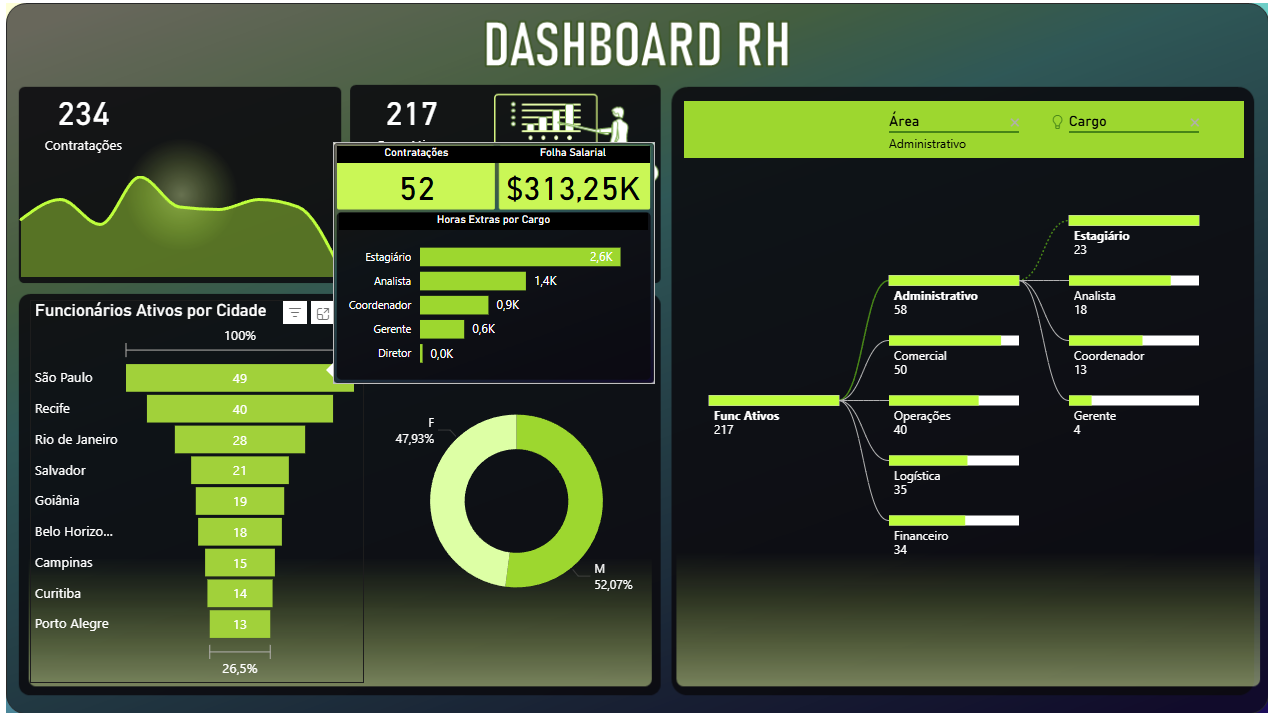

What the dashboard file says about the page in this screenshot:
{"tool":"powerbi","page":{"name":"Page 1","canvas":[1280,720],"ordinal":0},"visuals":[{"type":"card","fields":{"Values":["BaseFuncionarios.Total Contratações"]},"box":[29.3,63.8,114.7,113.9],"z":1000},{"type":"lineChart","fields":{"Y":["BaseFuncionarios.Total Contratações"],"Category":["BaseFuncionarios.Data de Contratacao.Variation.Date Hierarchy.Year"]},"box":[3.6,164.8,346.4,121.2],"z":2000},{"type":"card","fields":{"Values":["BaseFuncionarios.Func Ativos"]},"box":[358,63.8,113,113.9],"z":3000},{"type":"card","fields":{"Values":["BaseFuncionarios.Desligamentos"]},"box":[481.2,177.6,114.8,114],"z":4000},{"type":"card","fields":{"Values":["BaseFuncionarios.Turnover"]},"box":[356.2,177.7,114.7,113.9],"z":5000},{"type":"funnel","title":"Funcionários Ativos por Cidade","fields":{"Y":["BaseFuncionarios.Func Ativos"],"Category":["BaseFuncionarios.Cidade"]},"box":[32.8,301.9,333.8,383],"z":6000},{"type":"donutChart","title":"Funcionários Ativos por Gênero","fields":{"Y":["BaseFuncionarios.Func Ativos"],"Category":["BaseFuncionarios.Genero"]},"box":[366.6,301.9,305.3,383],"z":7000},{"type":"decompositionTreeVisual","fields":{"Analyze":["BaseFuncionarios.Func Ativos"],"ExplainBy":["BaseFuncionarios.Área","BaseFuncionarios.Cargo"]},"box":[682.3,98.3,569.3,586.5],"z":8000}]}

Visuals, with their boxes in screenshot pixels (x1, y1, x2, y2), scaled from the page's 1280x720 canvas onto the 1274x715 screenshot:
card - BaseFuncionarios.Total Contratações: bbox=[29, 63, 143, 176]
lineChart - BaseFuncionarios.Total Contratações x BaseFuncionarios.Data de Contratacao.Variation.Date Hierarchy.Year: bbox=[4, 164, 348, 284]
card - BaseFuncionarios.Func Ativos: bbox=[356, 63, 469, 176]
card - BaseFuncionarios.Desligamentos: bbox=[479, 176, 593, 290]
card - BaseFuncionarios.Turnover: bbox=[355, 176, 469, 290]
"Funcionários Ativos por Cidade" funnel: bbox=[33, 300, 365, 680]
"Funcionários Ativos por Gênero" donutChart: bbox=[365, 300, 669, 680]
decompositionTreeVisual - BaseFuncionarios.Func Ativos x BaseFuncionarios.Área: bbox=[679, 98, 1246, 680]
